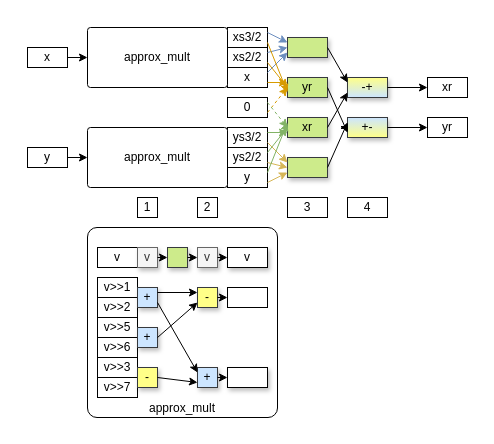
Image size: 494x444. Some labels were removed from this diagram. The shapes that lost their labels are listed below. From the top down, each one's centre as x and y in pixels, then its label:
(308,48): xl
(308,168): yl
(178,258): 0º?
(247,297): vs2/2
(248,378): vs3/2
